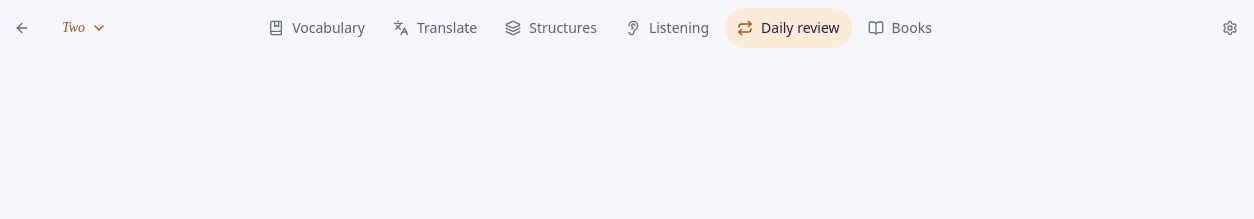
TopBar › Escape puts the picker away and hands the focus back
Click the button with aria-label "Current chapter: Two".
click(85, 28)  # box [50,8,119,48]
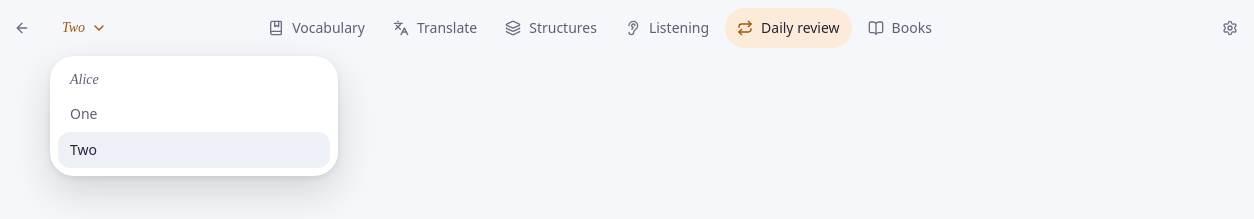
Press Escape
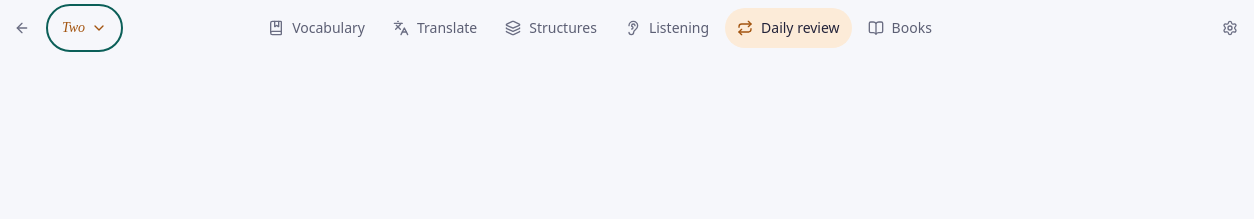
Expected: the list is gone
